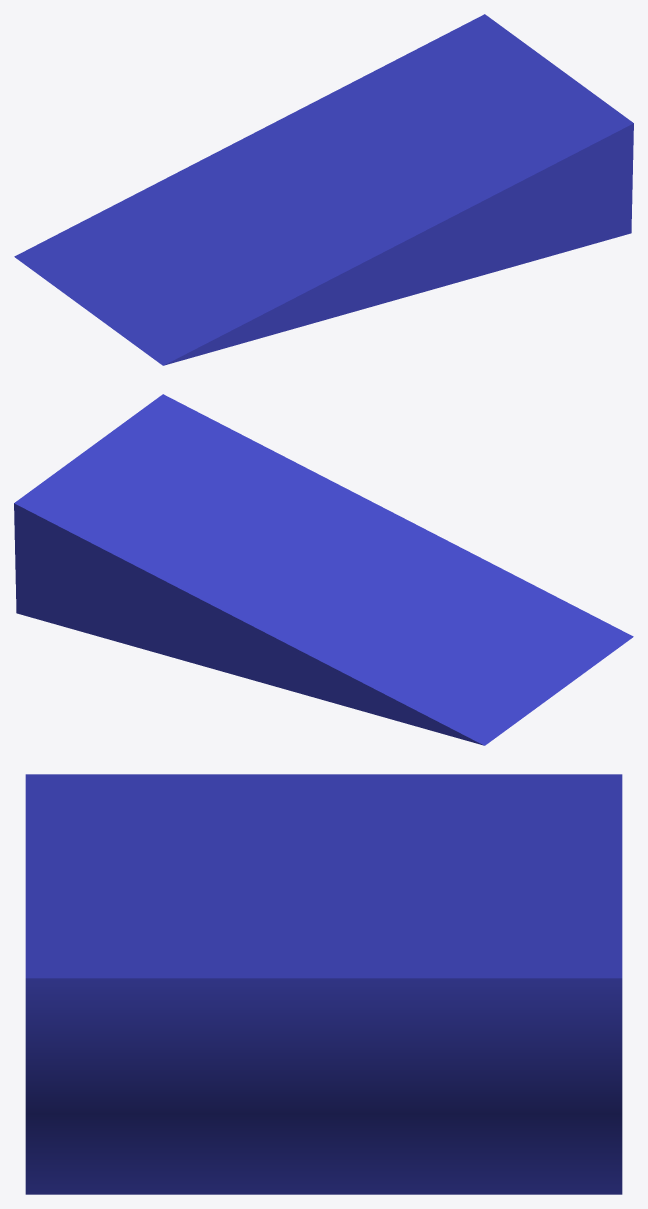
Rendered from ramp2.fbx.
The picture shows the model from 3 angles, top to bottom: view 1: azimuth 30°, elevation 25°; view 2: azimuth 150°, elevation 25°; view 3: azimuth 270°, elevation 25°; orthographic projection. The views are drawn at different scales.
Visible parts, largest first — view 1: root; view 2: root; view 3: root.
Boxes of the visible parts, x1,y1,x2,y2 form: root: (14,14,633,365); root: (14,394,633,745); root: (25,774,622,1194).
Bounding box in the file's own units: 182 × 47.27 × 100.
Materials: 1 (1 with a texture image).
